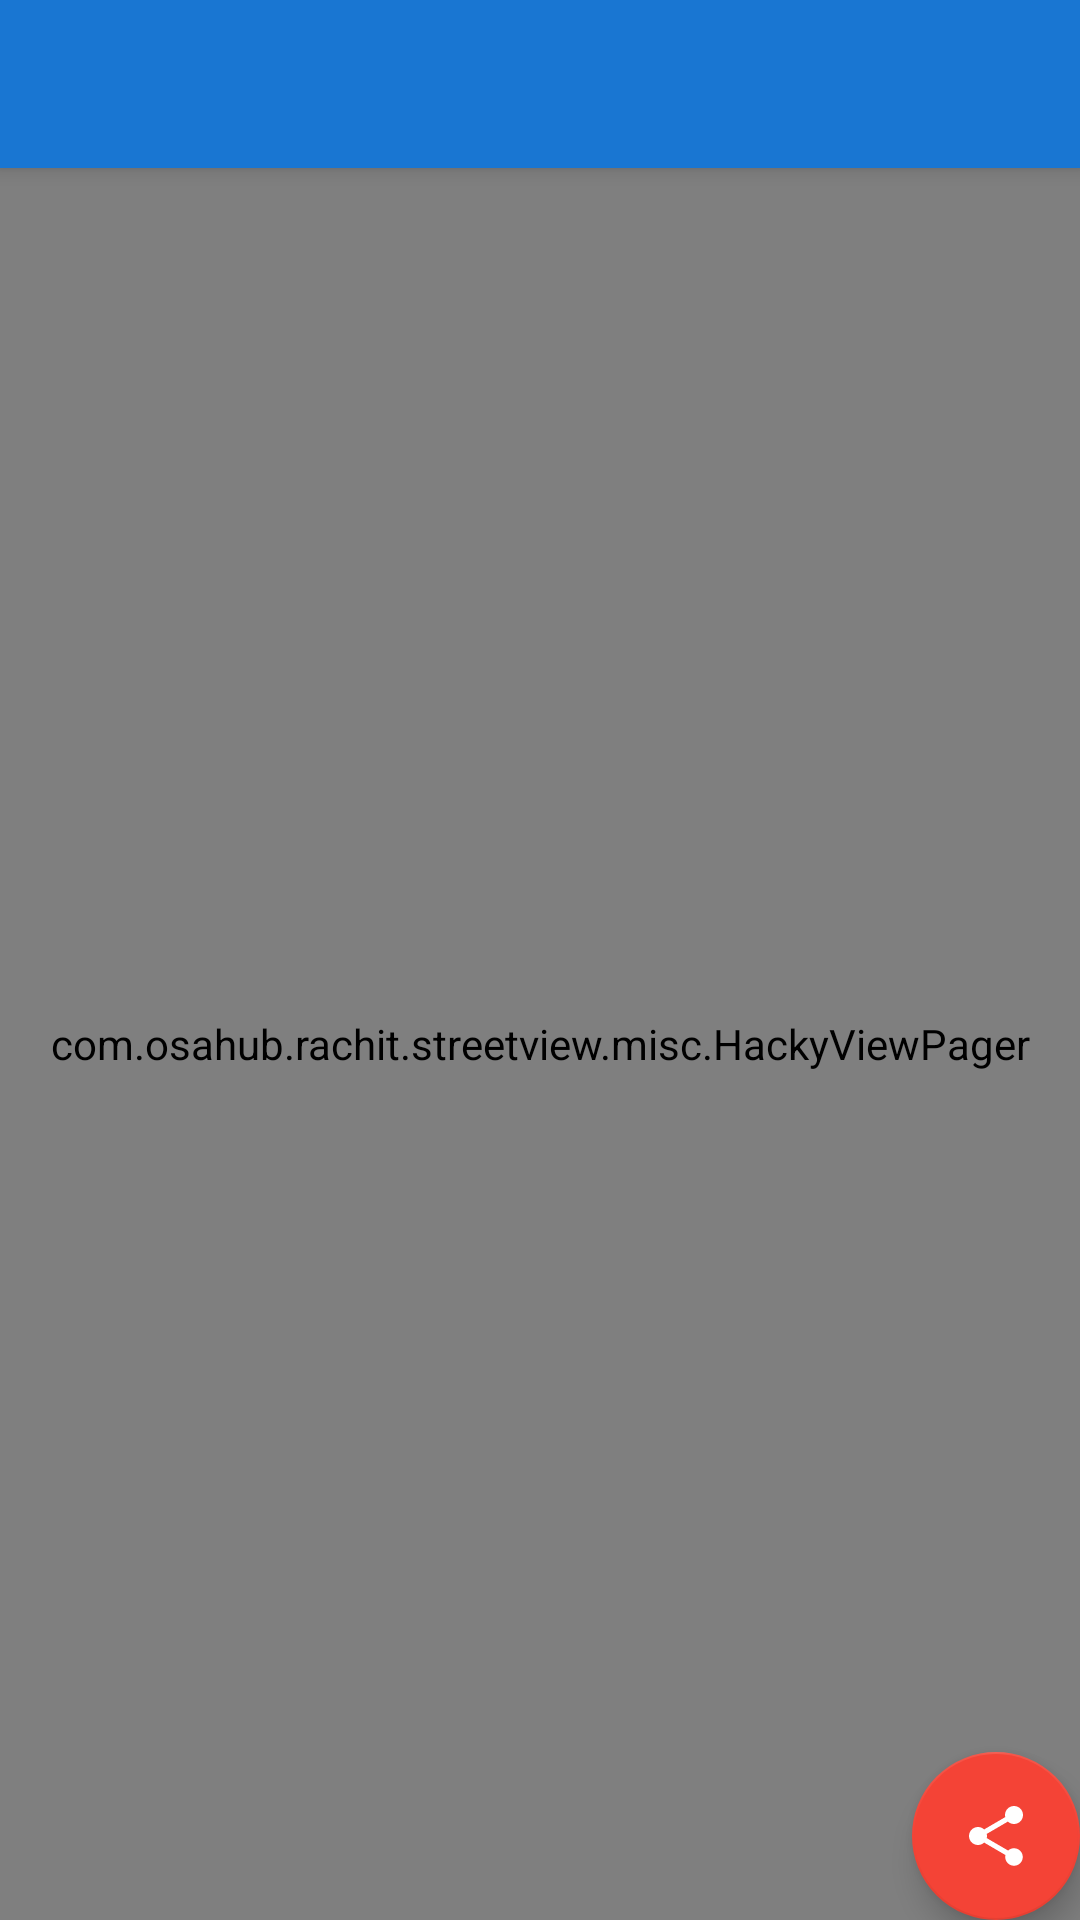

Where to tap for icons on this 1080 × 1920 app screen, as (x,y):
share: (996,1836)
